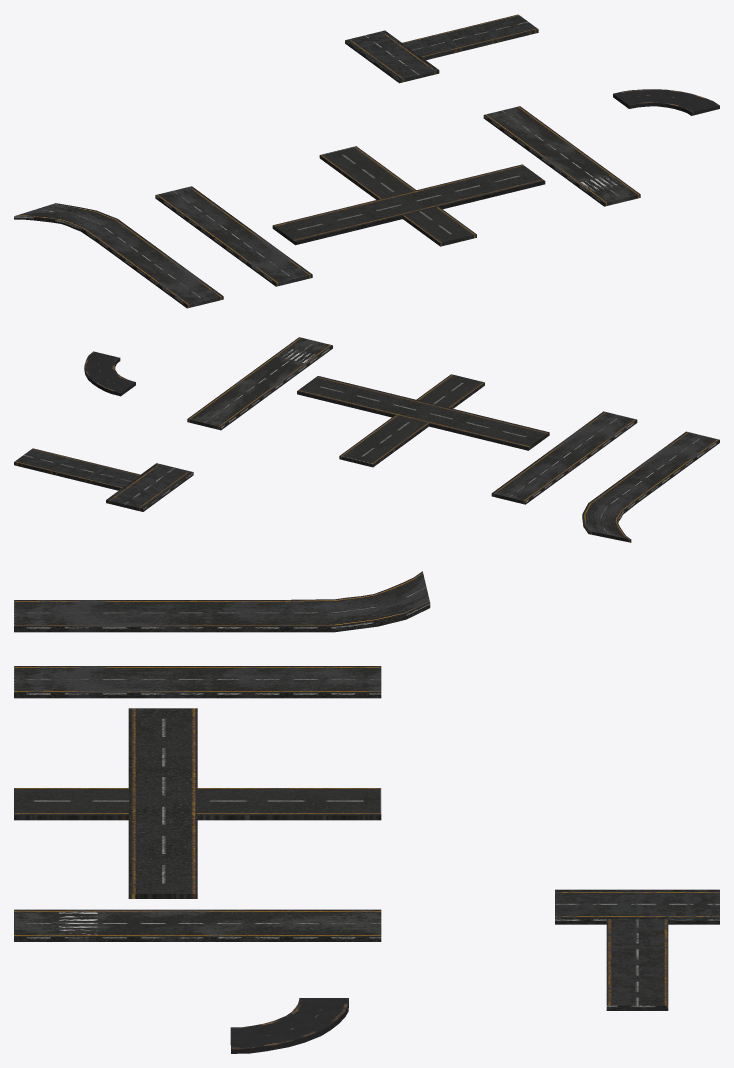
3 views of the same model, one above another, from view 1: azimuth 30°, elevation 25°; view 2: azimuth 150°, elevation 25°; view 3: azimuth 270°, elevation 25° (orthographic). The views are drawn at different scales.
Visible parts, largest first — view 1: Plane.001, Plane.004, Plane.002, Plane, Plane.003, BézierCurve; view 2: Plane.001, Plane.004, Plane.002, Plane.003, Plane, BézierCurve; view 3: Plane.001, Plane.004, Plane, Plane.003, Plane.002, BézierCurve.
Boxes of the visible parts, x1,y1,x2,y2 form: Plane.001: [272, 146, 545, 246]; Plane.004: [14, 203, 223, 308]; Plane.002: [345, 14, 538, 83]; Plane: [483, 106, 640, 206]; Plane.003: [155, 186, 312, 286]; BézierCurve: [613, 89, 719, 115]; Plane.001: [297, 374, 549, 467]; Plane.004: [582, 431, 719, 542]; Plane.002: [14, 448, 193, 511]; Plane.003: [491, 411, 637, 504]; Plane: [187, 337, 332, 430]; BézierCurve: [84, 351, 135, 396]; Plane.001: [14, 708, 381, 898]; Plane.004: [14, 571, 430, 632]; Plane: [14, 909, 381, 941]; Plane.003: [14, 666, 381, 698]; Plane.002: [555, 889, 719, 1010]; BézierCurve: [230, 998, 348, 1053].
Size of the model in its own units: 1439 by 9.63 by 899.
Materials: 6 (6 with a texture image).
